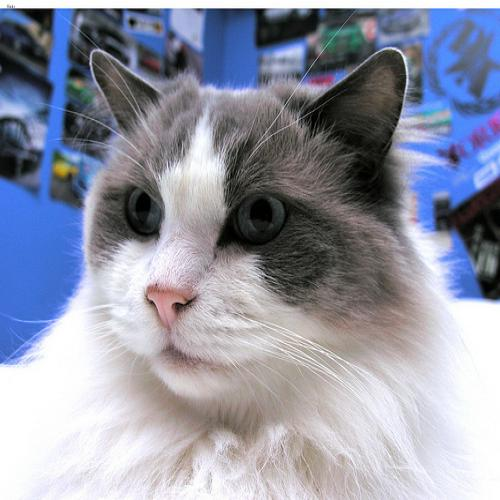ragdoll: (73, 28, 436, 432)
